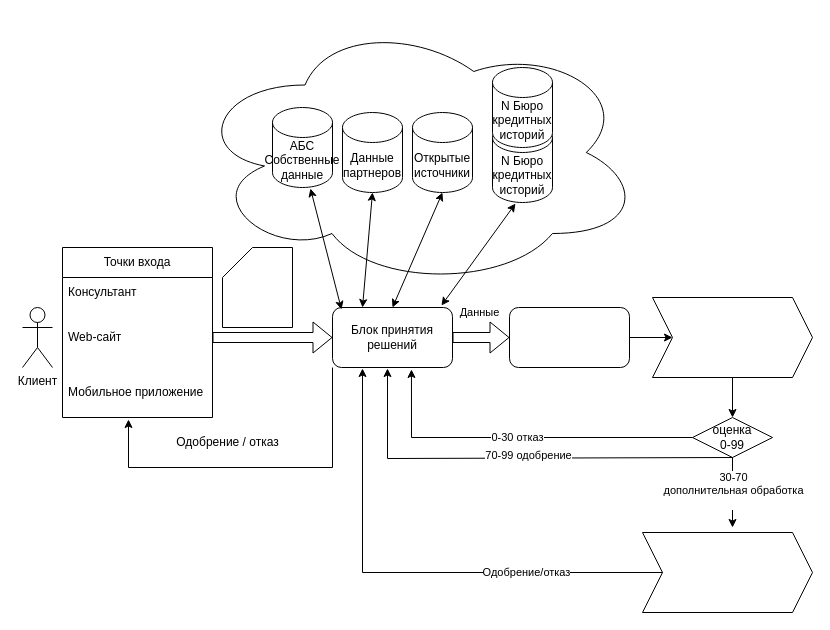
The diagram is 830 pixels wide and 630 high, and some of its shapes have lost their labels. The shapes that lost their labels are listed below. From the top down, each one's centre as x and y in pixels, then its label:
the point at 257,287: Заявление на выдачу кредита
the point at 569,337: Аналитический блок
the point at 732,337: 1ый этап оценка с помощью ML модели
the point at 727,572: 2ой этап оценки Выполняется вручную. Долгий ответ
